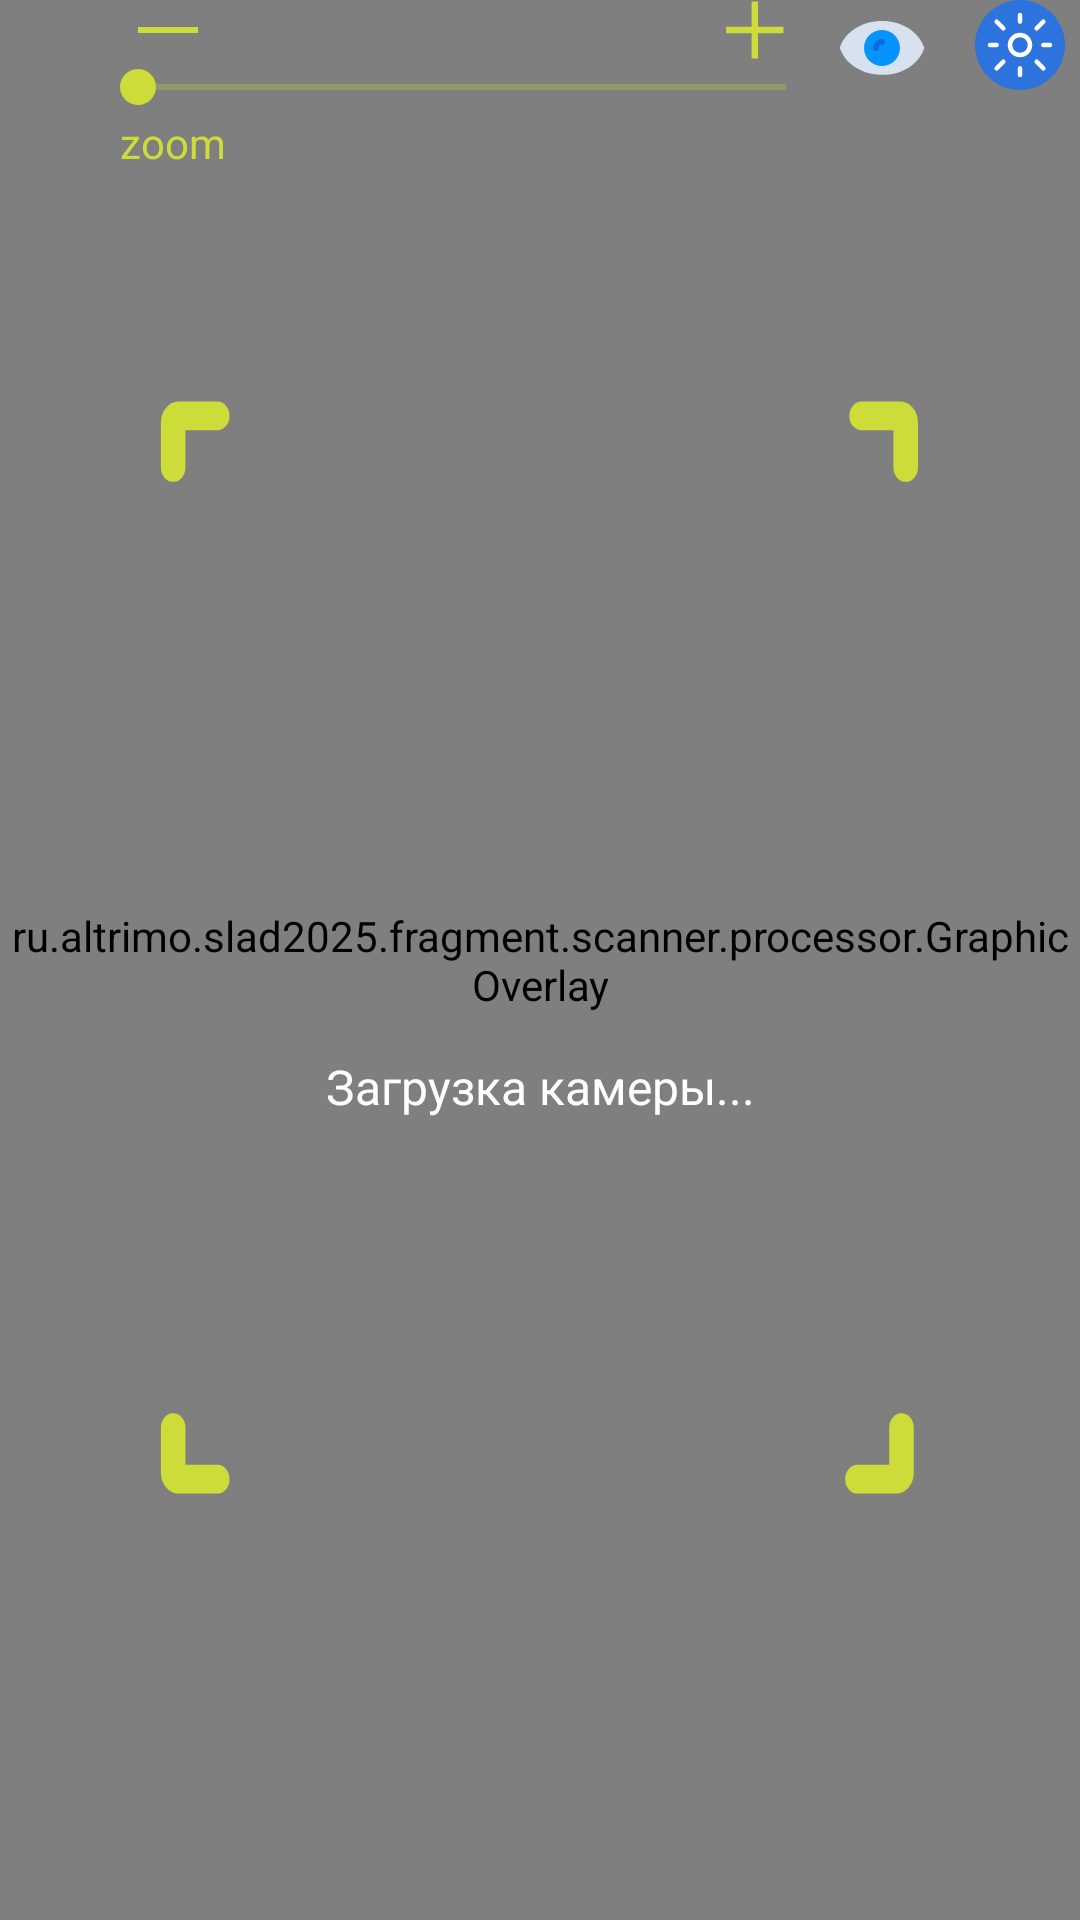

Named icons in this screenshot (1080w x 1920h) and their bounding boxes, (x1, y1, x2, y2):
computer vision off: (840, 21, 924, 75)
zoom plus: (726, 1, 784, 59)
